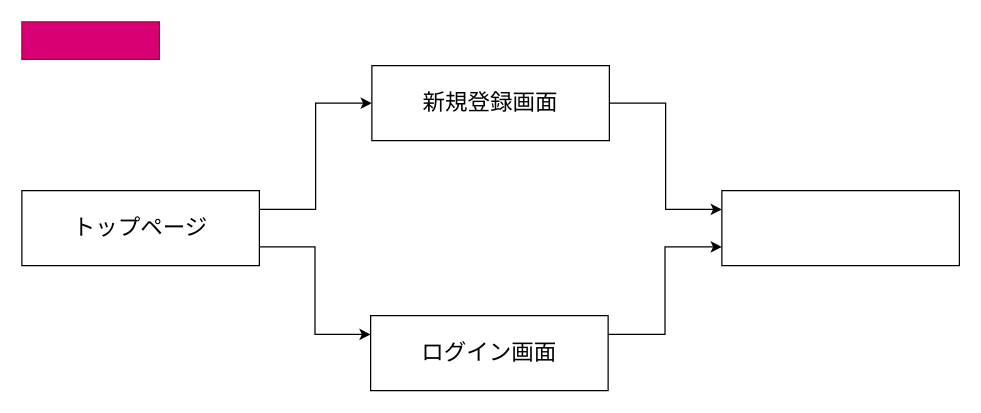
The diagram is 981 pixels wide and 413 high, and some of its shapes have lost their labels. Each missing label, with the centre of its shape:
"投稿一覧画面" belongs at point 840,227.
"画面遷移図" belongs at point 90,40.
